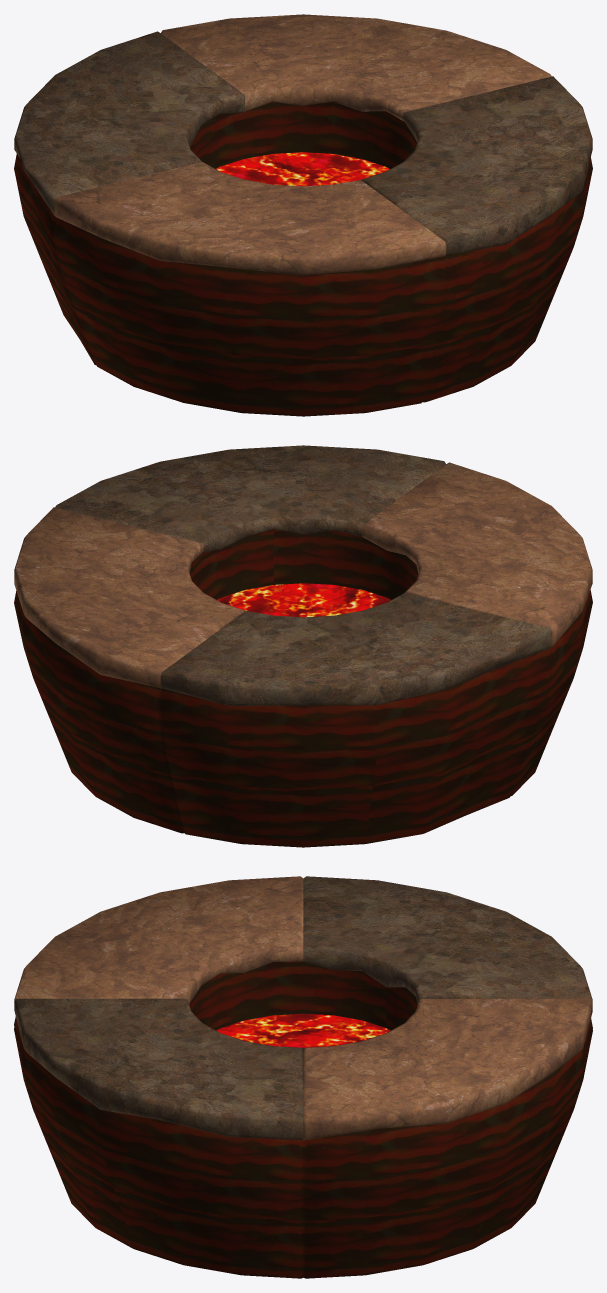
File: HellWaterfallCircleRotateStep.fbx
The picture shows the model from 3 angles, top to bottom: view 1: azimuth 30°, elevation 25°; view 2: azimuth 150°, elevation 25°; view 3: azimuth 270°, elevation 25°; orthographic projection.
Parts seen in each view (by area): view 1: Circle.001, Circle.000, Circle.002, Circle.003; view 2: Circle.001, Circle.002, Circle.000, Circle.003; view 3: Circle.001, Circle.002, Circle.000, Circle.003.
Boxes of the visible parts, left/top/right/bottom form: Circle.001: left=14, top=101, right=592, bottom=416; Circle.000: left=54, top=14, right=551, bottom=275; Circle.002: left=14, top=31, right=592, bottom=256; Circle.003: left=216, top=152, right=389, bottom=186; Circle.001: left=14, top=529, right=592, bottom=847; Circle.002: left=55, top=445, right=552, bottom=705; Circle.000: left=14, top=462, right=592, bottom=688; Circle.003: left=217, top=583, right=390, bottom=617; Circle.001: left=14, top=961, right=592, bottom=1278; Circle.002: left=14, top=876, right=592, bottom=1140; Circle.000: left=14, top=876, right=592, bottom=1140; Circle.003: left=216, top=1013, right=390, bottom=1047.
Bounding box in the file's own units: 305037 × 104459 × 305037.
Materials: 4 (4 with a texture image).
